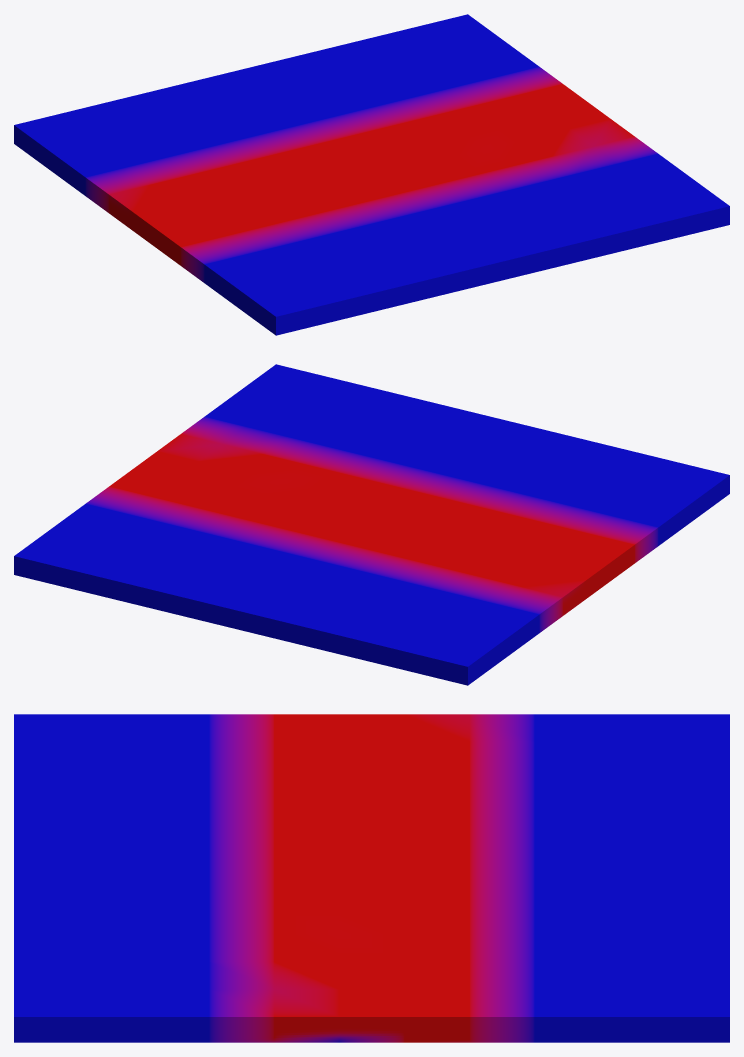
Rendered from DirtPath.fbx.
The picture shows the model from 3 angles, top to bottom: view 1: azimuth 30°, elevation 25°; view 2: azimuth 150°, elevation 25°; view 3: azimuth 270°, elevation 25°; orthographic projection. The views are drawn at different scales.
Visible parts, largest first — view 1: Plane; view 2: Plane; view 3: Plane.
Part boxes in pixels (left/top/right/bottom): Plane: left=14, top=14, right=729, bottom=335; Plane: left=14, top=364, right=729, bottom=685; Plane: left=14, top=714, right=729, bottom=1042.
Size of the model in its own units: 200 by 7.91 by 200.
